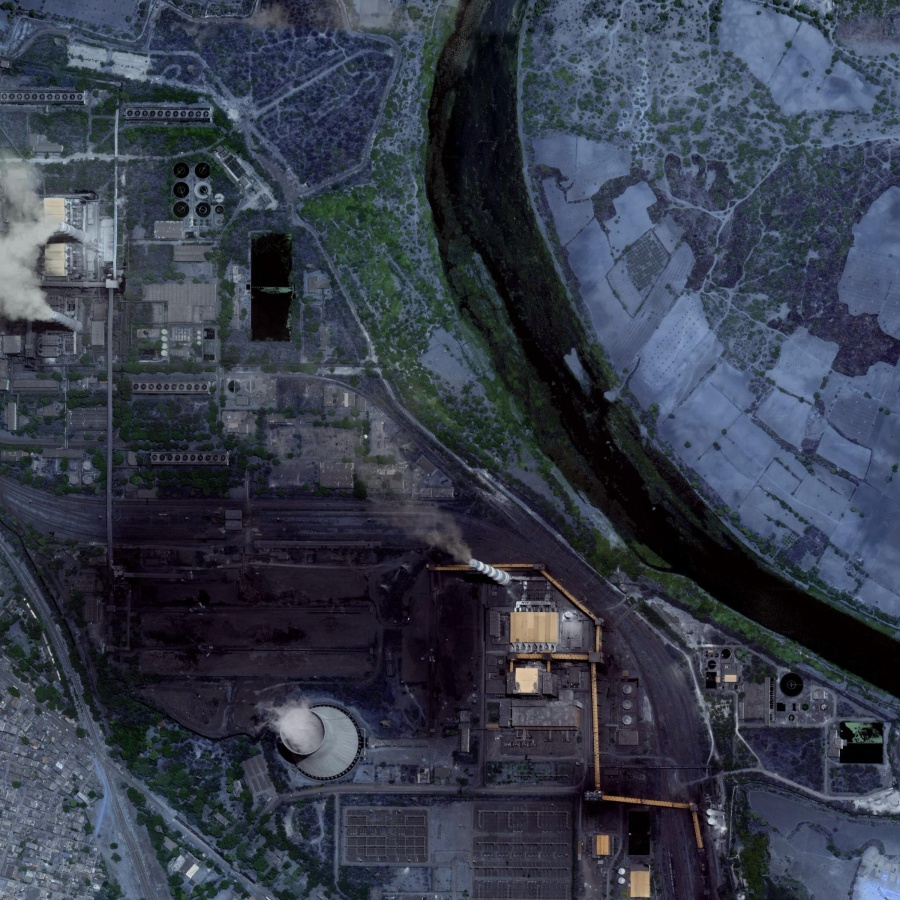PowerPlant: (78, 458, 571, 812)
